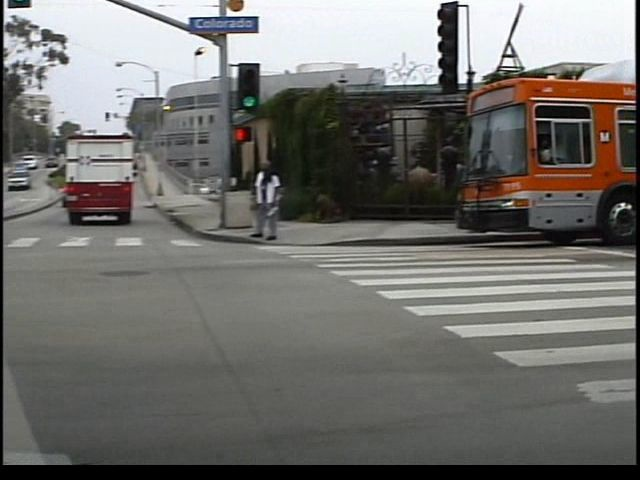person: (257, 157, 291, 243)
